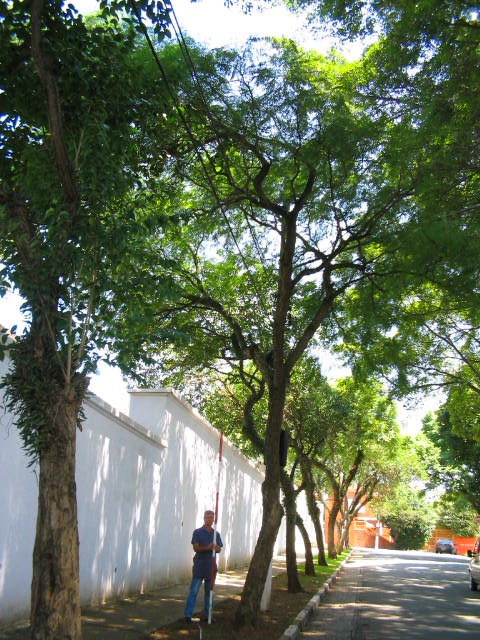crown: (82, 20, 473, 374)
stem: (3, 382, 106, 638), (231, 389, 301, 625)
stick: (200, 427, 231, 626)
tree: (79, 19, 473, 625)
